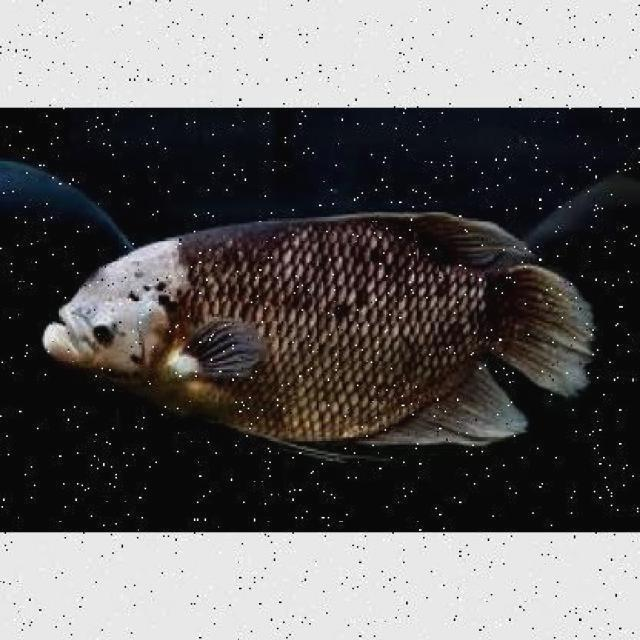gurame: (41, 214, 584, 456)
